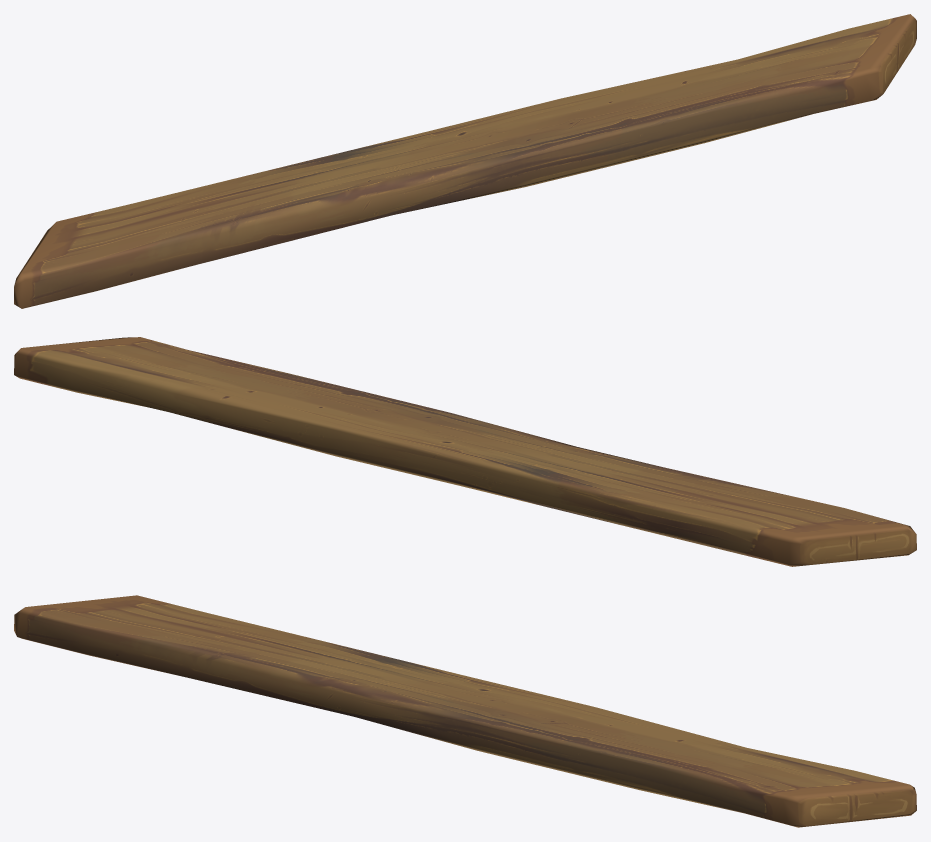
Rendered from SM_MOD_basic_plank_sloped_town_01.fbx.
3 views of the same model, one above another, from view 1: azimuth 30°, elevation 25°; view 2: azimuth 150°, elevation 25°; view 3: azimuth 330°, elevation 25° (orthographic). The views are drawn at different scales.
Visible parts, largest first — view 1: SM_MOD_basic_plank_sloped_town_01_LOD0; view 2: SM_MOD_basic_plank_sloped_town_01_LOD0; view 3: SM_MOD_basic_plank_sloped_town_01_LOD0.
Part boxes in pixels (x1,y1,x2,y2): SM_MOD_basic_plank_sloped_town_01_LOD0: (14,14,916,308); SM_MOD_basic_plank_sloped_town_01_LOD0: (14,337,916,566); SM_MOD_basic_plank_sloped_town_01_LOD0: (14,595,916,827).
Size of what is drawn, in the model's own units: 547 by 18.73 by 50.19.
